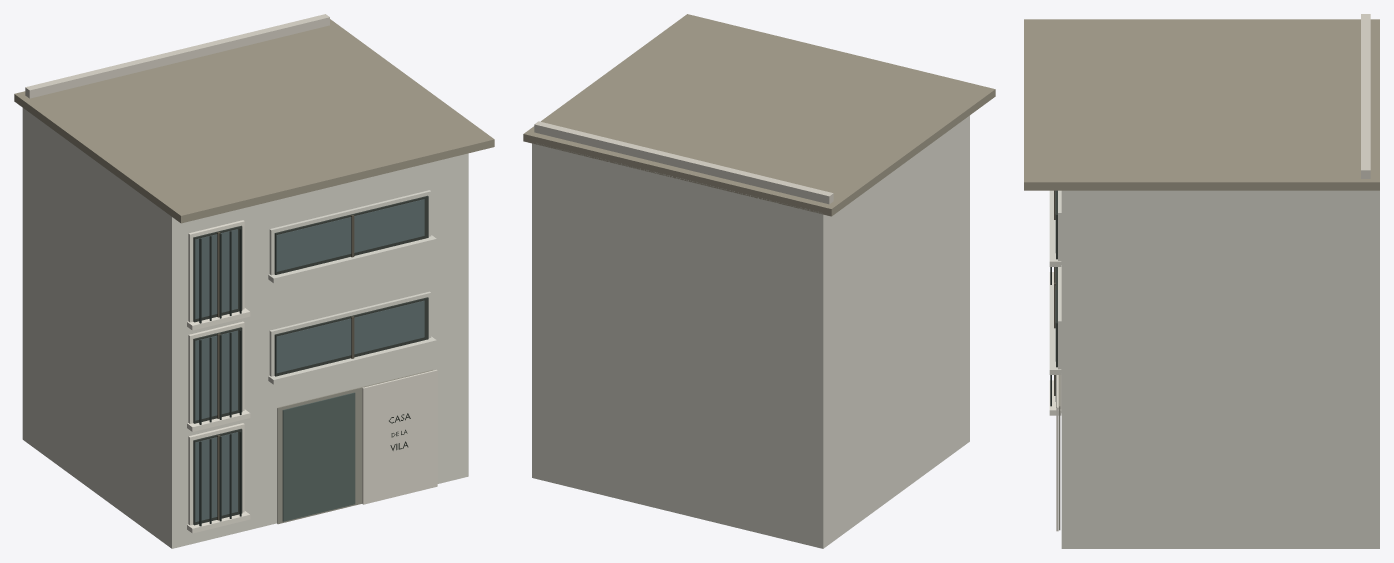
The model's file is townhall.glb.
3 renders of one model, left to right at view 1: azimuth 30°, elevation 25°; view 2: azimuth 150°, elevation 25°; view 3: azimuth 270°, elevation 25°, orthographic. The views are drawn at different scales.
Visible parts, largest first — view 1: townhall Town #e6e4d9, townhall Town #a8a18f, townhall Town #6a7979.002, townhall Town #e9e5d9, townhall Town #606f6a, townhall Town #424943.002, townhall Town #f2eee2, townhall Town #ded9cd, townhall Town #343c38.001, townhall Town #a5a395, townhall Town #666153.002; view 2: townhall Town #e6e4d9, townhall Town #a8a18f, townhall Town #ded9cd; view 3: townhall Town #e6e4d9, townhall Town #a8a18f, townhall Town #ded9cd, townhall Town #e9e5d9.
Part boxes in pixels (box(x1,y1,x2,y2)): townhall Town #e6e4d9: box(22, 108, 468, 548); townhall Town #a8a18f: box(14, 19, 494, 223); townhall Town #6a7979.002: box(195, 199, 424, 521); townhall Town #e9e5d9: box(362, 369, 437, 504); townhall Town #606f6a: box(282, 392, 355, 521); townhall Town #424943.002: box(193, 195, 428, 525); townhall Town #f2eee2: box(187, 220, 250, 533); townhall Town #ded9cd: box(25, 14, 329, 98); townhall Town #343c38.001: box(199, 228, 241, 526); townhall Town #a5a395: box(277, 369, 433, 524); townhall Town #666153.002: box(217, 215, 354, 520); townhall Town #e6e4d9: box(532, 115, 969, 548); townhall Town #a8a18f: box(523, 14, 995, 216); townhall Town #ded9cd: box(534, 121, 833, 204); townhall Town #e6e4d9: box(1049, 190, 1379, 548); townhall Town #a8a18f: box(1024, 19, 1379, 190); townhall Town #ded9cd: box(1361, 14, 1370, 178); townhall Town #e9e5d9: box(1056, 375, 1058, 531).
Bounding box in the file's own units: 8.25 × 8.95 × 7.6.
